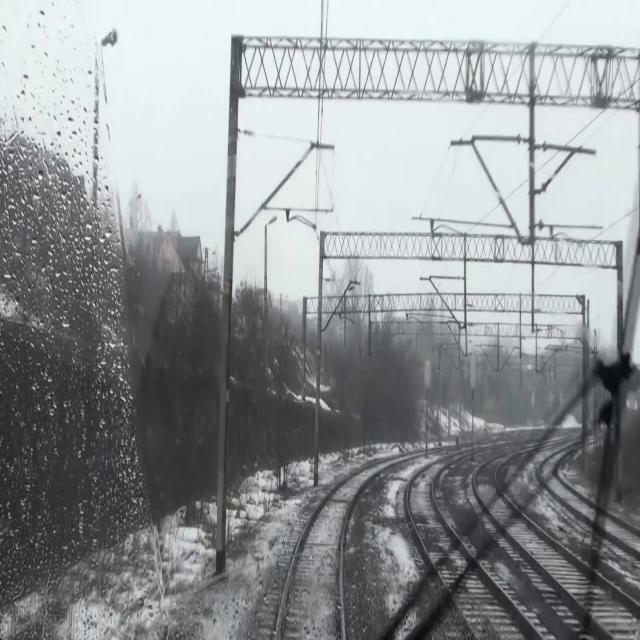rail-track: (279, 466, 375, 639), (410, 465, 454, 561), (477, 462, 495, 498)
